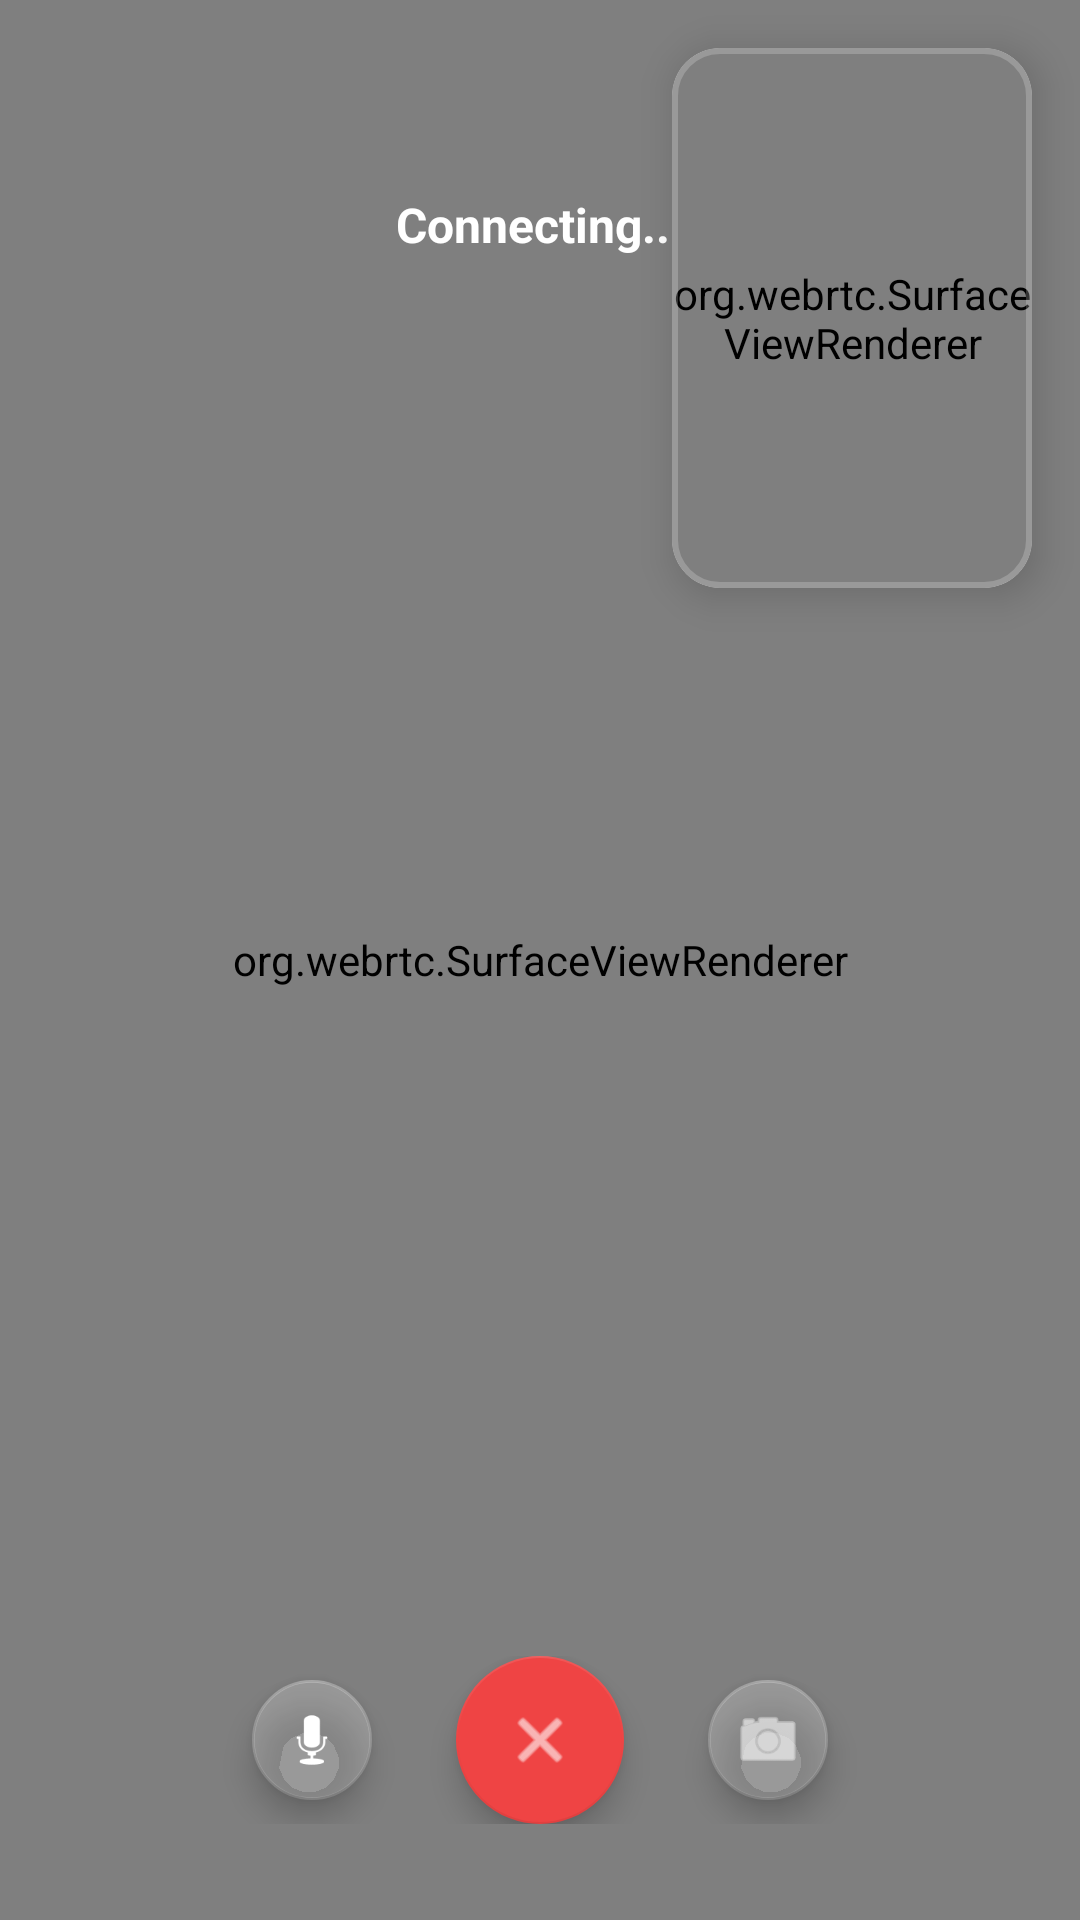

Screen size 1080px×1920px. Icon name, then its box in pixels as (x1, y1, x2, y2):
End Call: (456, 1656, 624, 1824)
Mute Audio: (249, 1680, 373, 1812)
Switch Camera: (707, 1680, 832, 1812)
